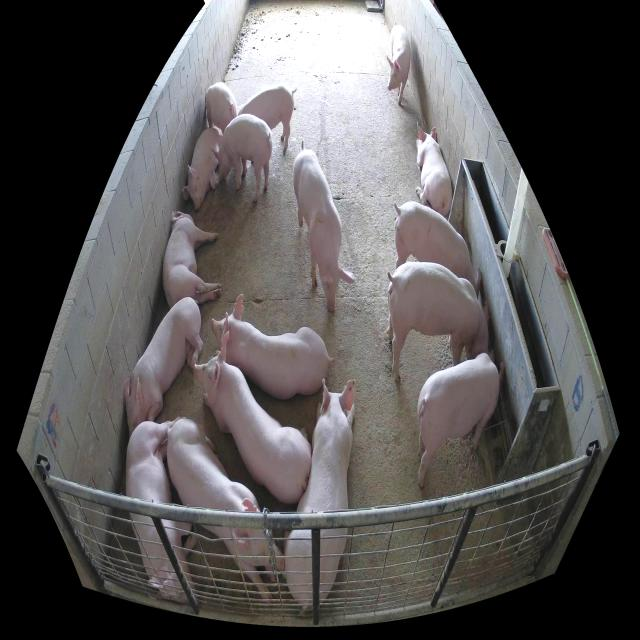pig: (169, 416, 285, 606), (194, 330, 311, 504), (282, 377, 356, 609), (126, 415, 204, 605), (386, 261, 491, 386), (211, 294, 330, 396), (417, 349, 504, 488), (125, 299, 203, 438), (293, 149, 354, 315), (394, 202, 483, 300), (210, 113, 273, 205), (162, 211, 222, 307), (238, 83, 294, 156), (415, 124, 453, 220), (182, 127, 222, 212), (387, 25, 410, 106), (205, 81, 237, 133)
